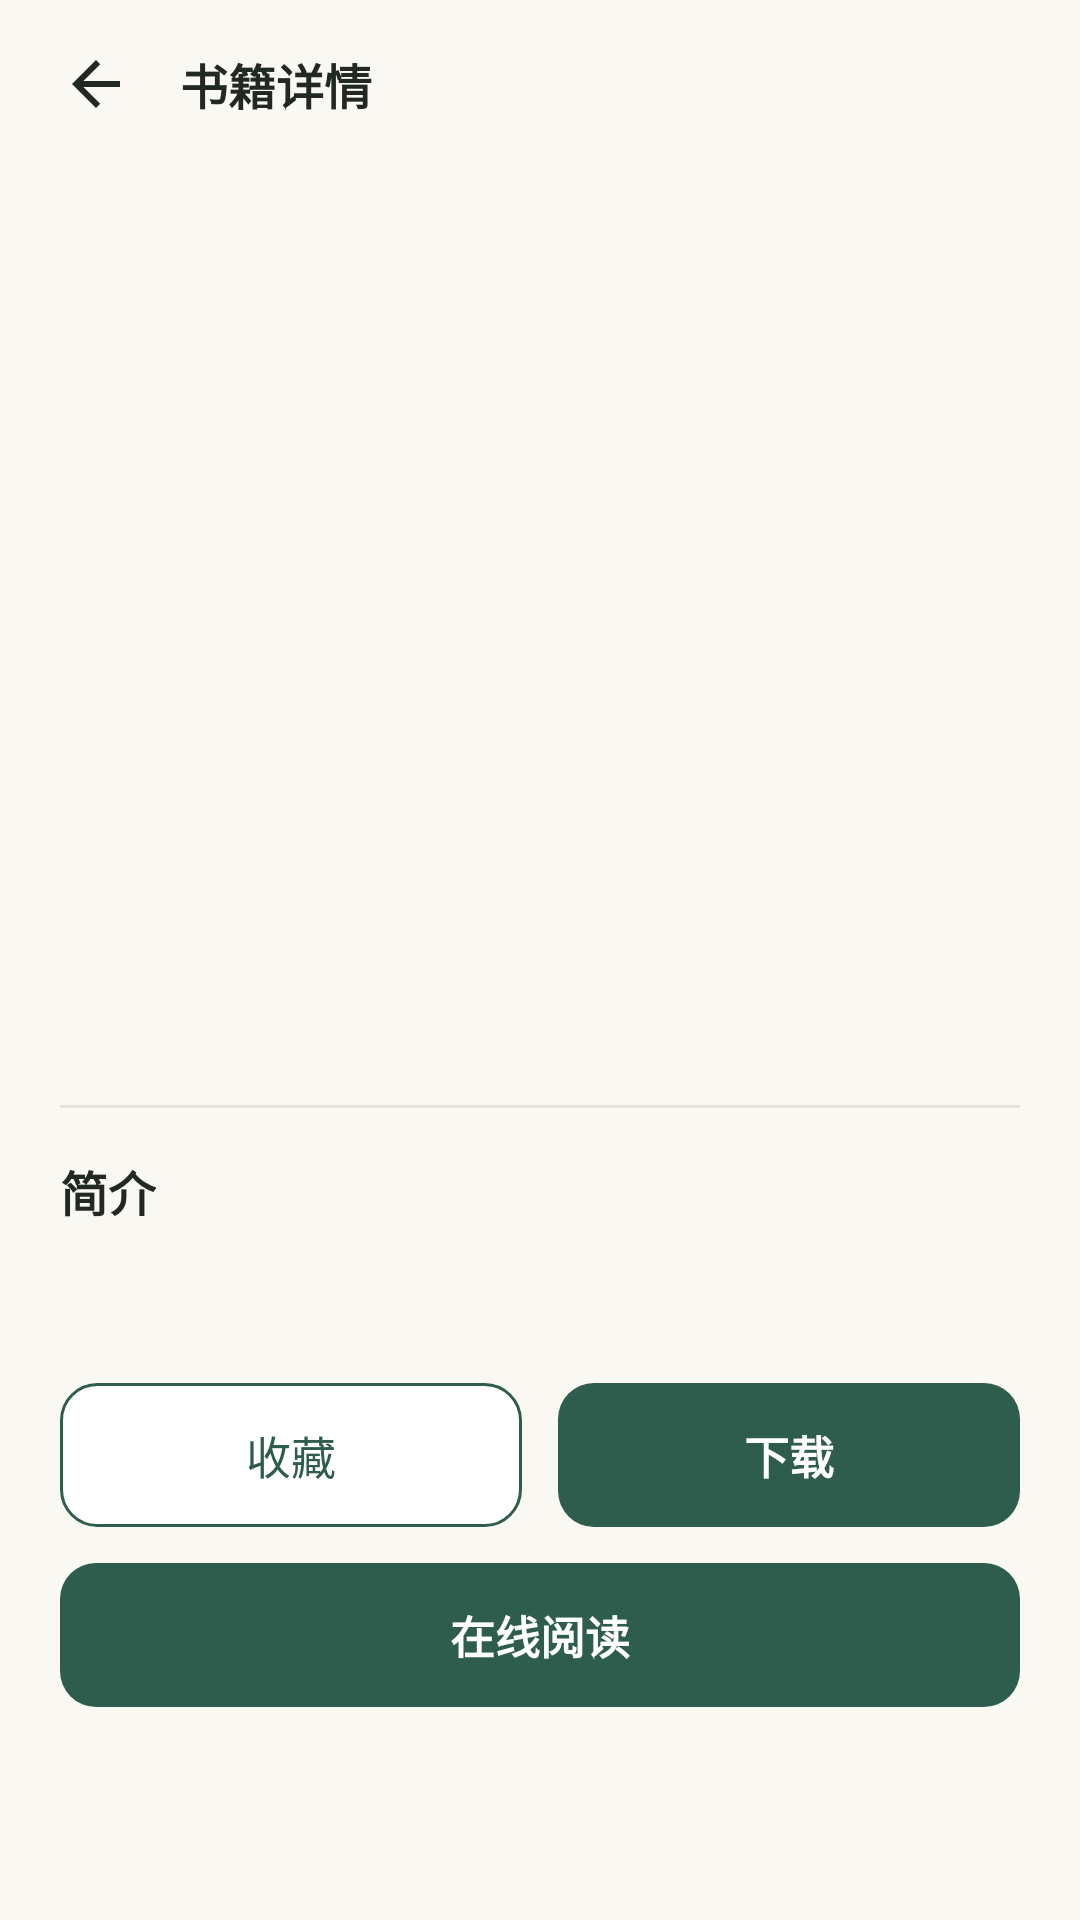

Icon click points for this 1080w x 1920h phone screenshot, format (x,y):
返回: (96,84)
